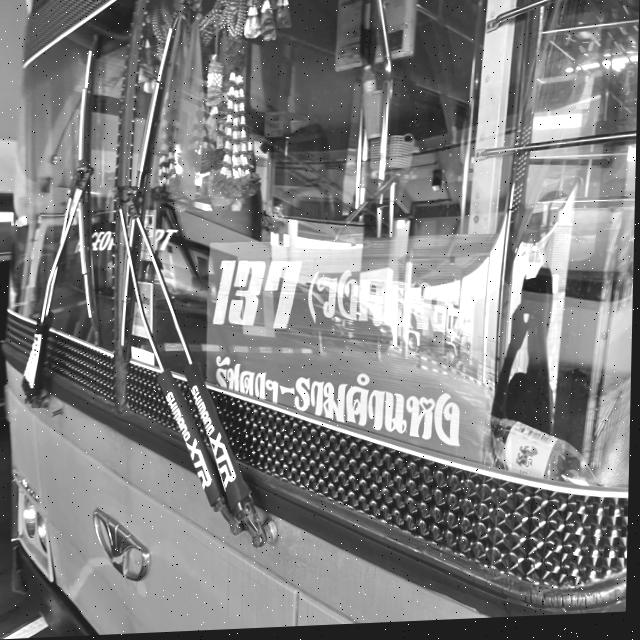Destination Sign: (205, 235, 492, 500)
